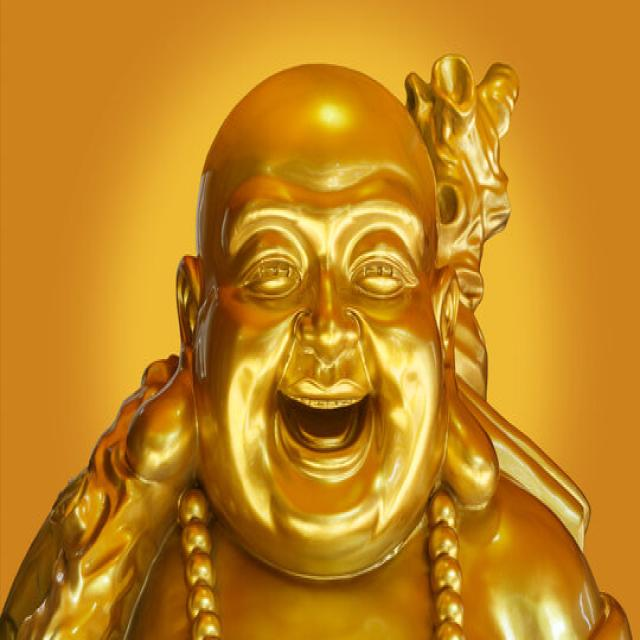Smiling Buddha: (173, 66, 460, 581)
